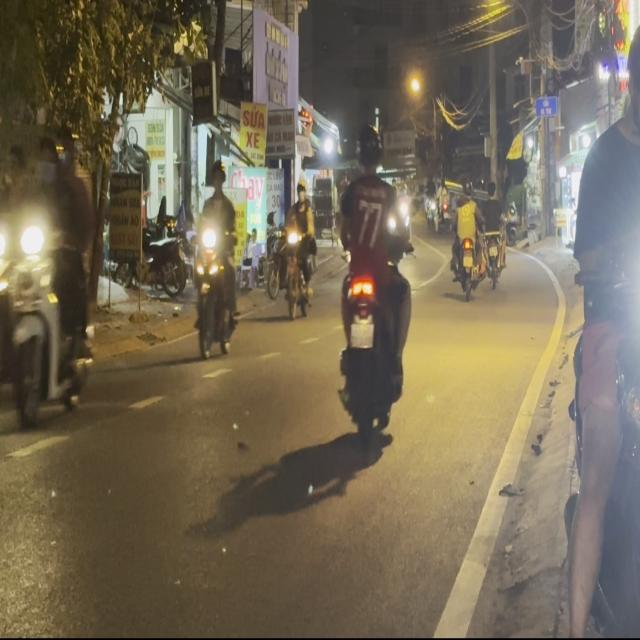helmet: (354, 122, 381, 171), (208, 159, 225, 191)
licenseplate: (10, 122, 118, 427), (332, 119, 413, 462), (190, 157, 241, 360)
nohelmet: (350, 318, 373, 346)
